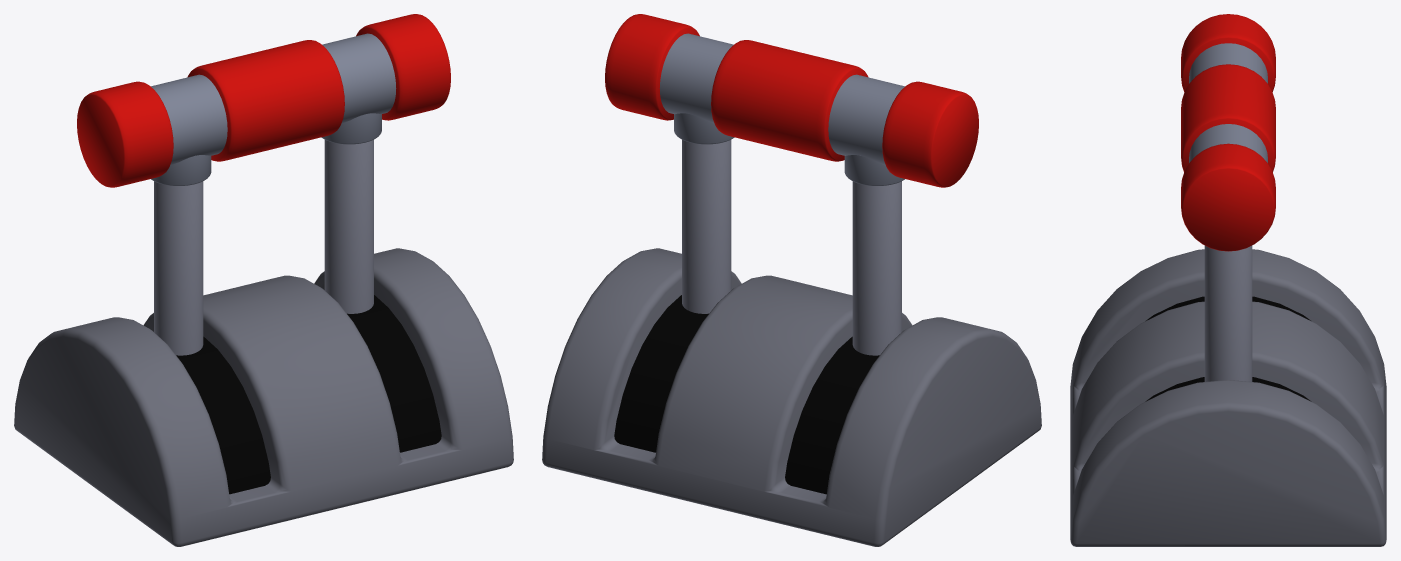
Rendered from leverL.fbx.
The picture shows the model from 3 angles, left to right: view 1: azimuth 30°, elevation 25°; view 2: azimuth 150°, elevation 25°; view 3: azimuth 270°, elevation 25°; orthographic projection. The views are drawn at different scales.
Parts seen in each view (by area): view 1: lever_body, lever_handle, lever_stick, lever_in, lever_connection; view 2: lever_body, lever_handle, lever_stick, lever_in, lever_connection; view 3: lever_body, lever_handle, lever_stick, lever_connection, lever_in.
Part boxes in pixels (box(x1,y1,x2,y2)): lever_body: box(14, 248, 513, 546); lever_handle: box(77, 14, 450, 187); lever_stick: box(154, 139, 373, 355); lever_in: box(176, 295, 441, 494); lever_connection: box(151, 33, 396, 185); lever_body: box(542, 248, 1041, 546); lever_handle: box(605, 14, 978, 187); lever_stick: box(682, 139, 901, 355); lever_in: box(614, 295, 879, 494); lever_connection: box(659, 33, 904, 185); lever_body: box(1070, 249, 1386, 546); lever_handle: box(1181, 14, 1275, 251); lever_stick: box(1204, 245, 1252, 381); lever_connection: box(1189, 43, 1267, 162); lever_in: box(1145, 296, 1311, 401).
Size of the model in its own units: 240 by 264 by 199.
